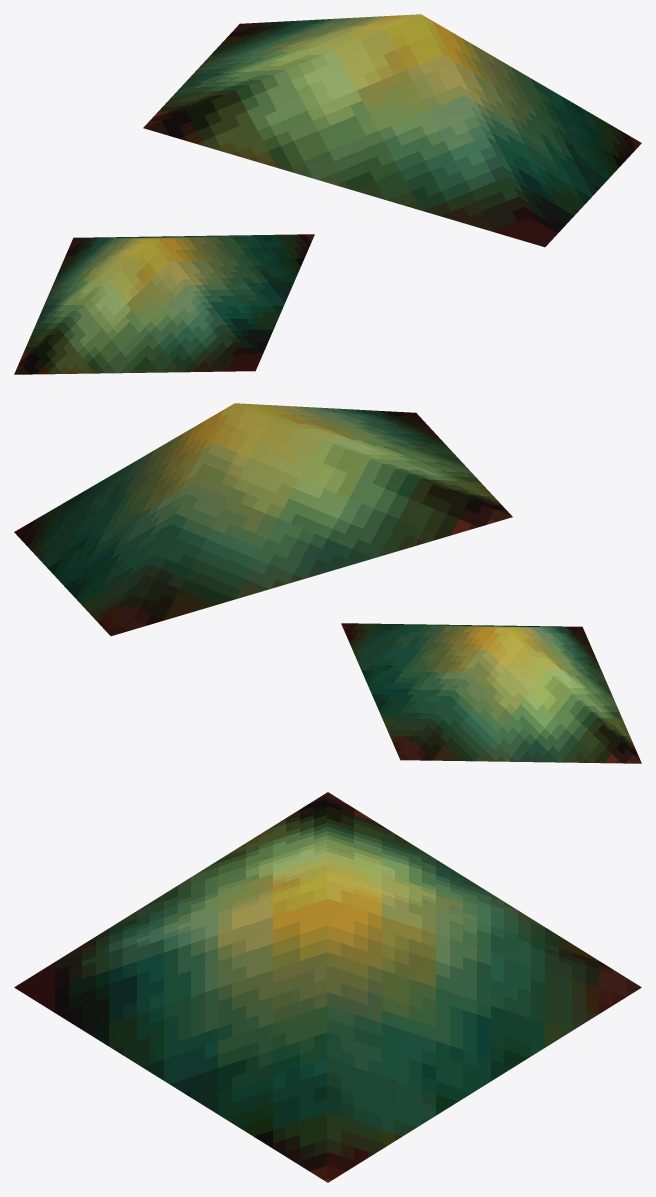
Rendered from frst_fngi_mushroom_blue_group_l3.fbx.
3 renders of one model, top to bottom at view 1: azimuth 30°, elevation 25°; view 2: azimuth 150°, elevation 25°; view 3: azimuth 270°, elevation 25°, orthographic. The views are drawn at different scales.
Parts seen in each view (by area): view 1: mesh_node; view 2: mesh_node; view 3: mesh_node.
Part boxes in pixels (x1=…): mesh_node: x1=14, y1=14, x2=641, y2=374; mesh_node: x1=14, y1=403, x2=641, y2=763; mesh_node: x1=14, y1=792, x2=641, y2=1182.
Bounding box in the file's own units: 0.4725 × 0.1878 × 0.398.
Materials: 1 (1 with a texture image).
